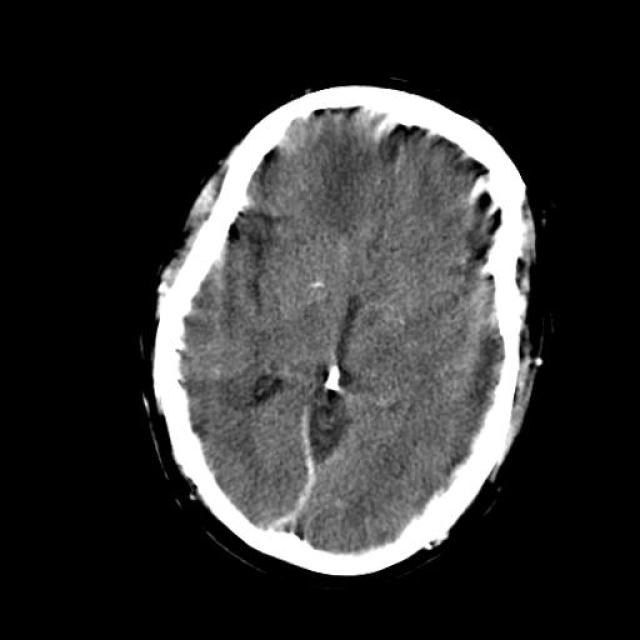Subdural: (222, 393, 386, 555)
